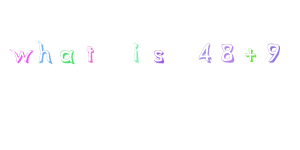+: (240, 43, 261, 67)
4: (191, 34, 217, 70)
8: (217, 38, 239, 68)
9: (263, 39, 289, 67)
a: (58, 44, 80, 67)
h: (35, 39, 56, 69)
i: (126, 34, 145, 72)
s: (150, 42, 170, 71)
t: (82, 40, 98, 67)
w: (7, 40, 33, 68)
